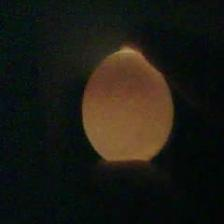infertile: (80, 46, 177, 164)
